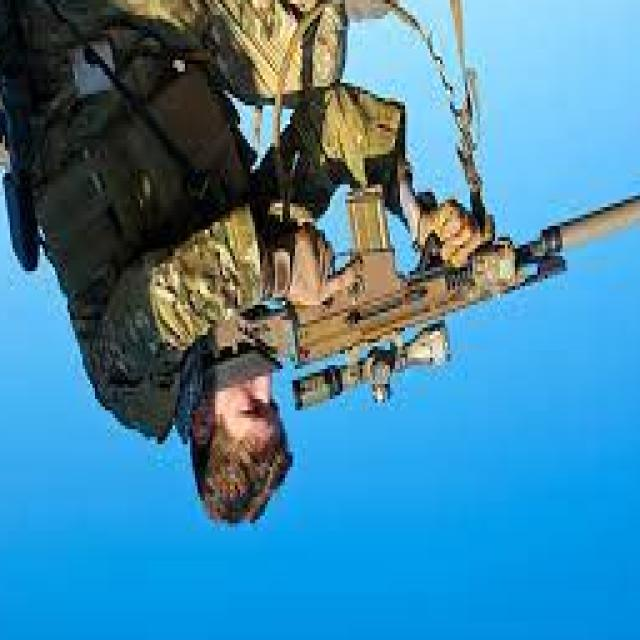Gun: (210, 94, 640, 422)
